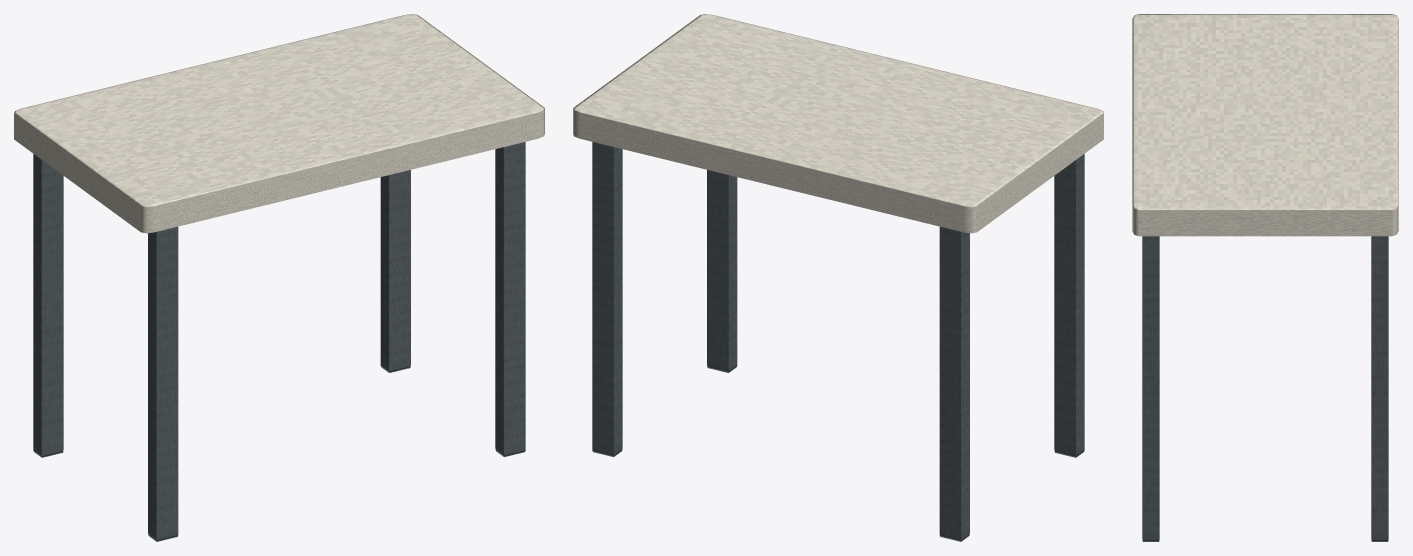
File: laundry-table.glb
3 renders of one model, left to right at view 1: azimuth 30°, elevation 25°; view 2: azimuth 150°, elevation 25°; view 3: azimuth 270°, elevation 25°, orthographic.
Visible parts, largest first — view 1: top, leg (×4); view 2: top, leg (×4); view 3: top, leg (×2).
Part boxes in pixels (bbox=[...]): top: bbox=[14, 14, 544, 233]; leg (×4): bbox=[33, 142, 525, 541]; top: bbox=[573, 14, 1103, 233]; leg (×4): bbox=[592, 142, 1084, 541]; top: bbox=[1132, 14, 1398, 236]; leg (×2): bbox=[1142, 236, 1388, 541].
Bounding box in the file's own units: 1.1 × 0.89 × 0.63.
2 materials, 2 textured.
